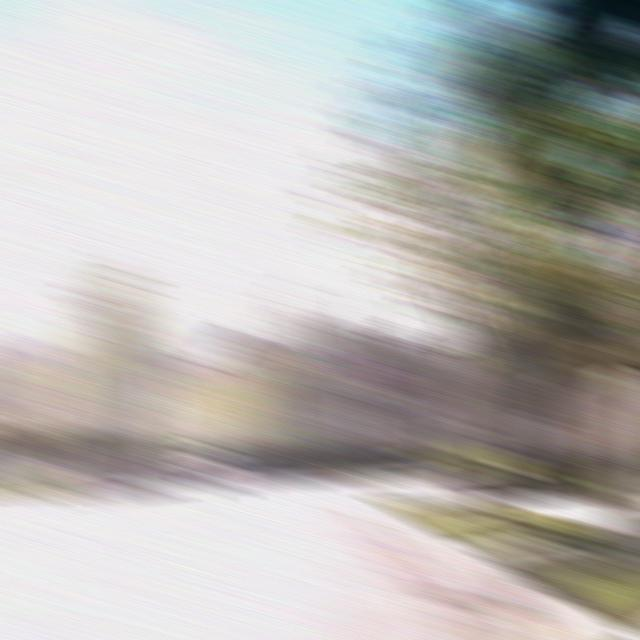stop_sign: (362, 351, 410, 394)
